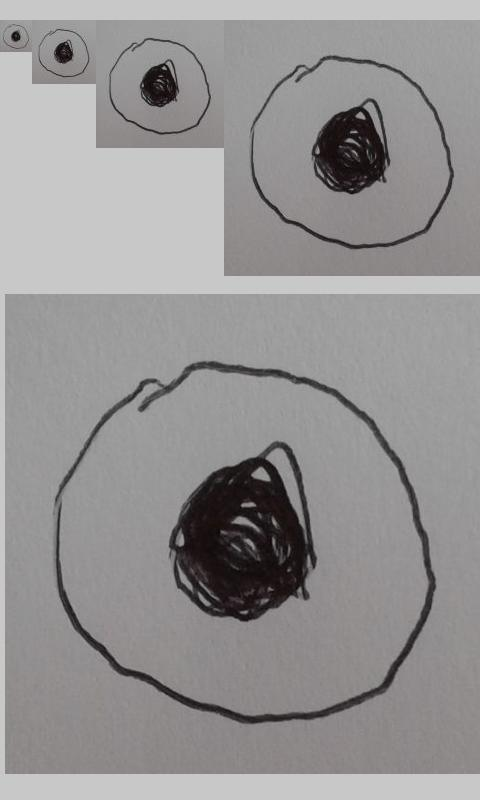radio_button: (48, 356, 442, 729), (247, 53, 456, 250), (108, 36, 213, 136), (37, 28, 90, 78), (1, 23, 30, 50)
